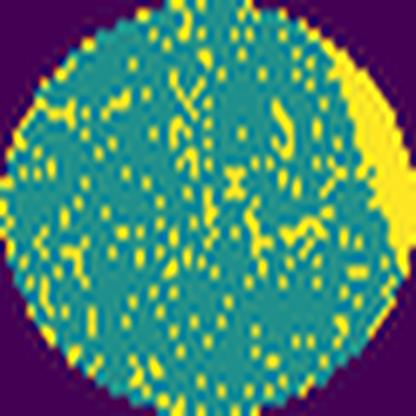Edge-Loc: (301, 17, 416, 287)
